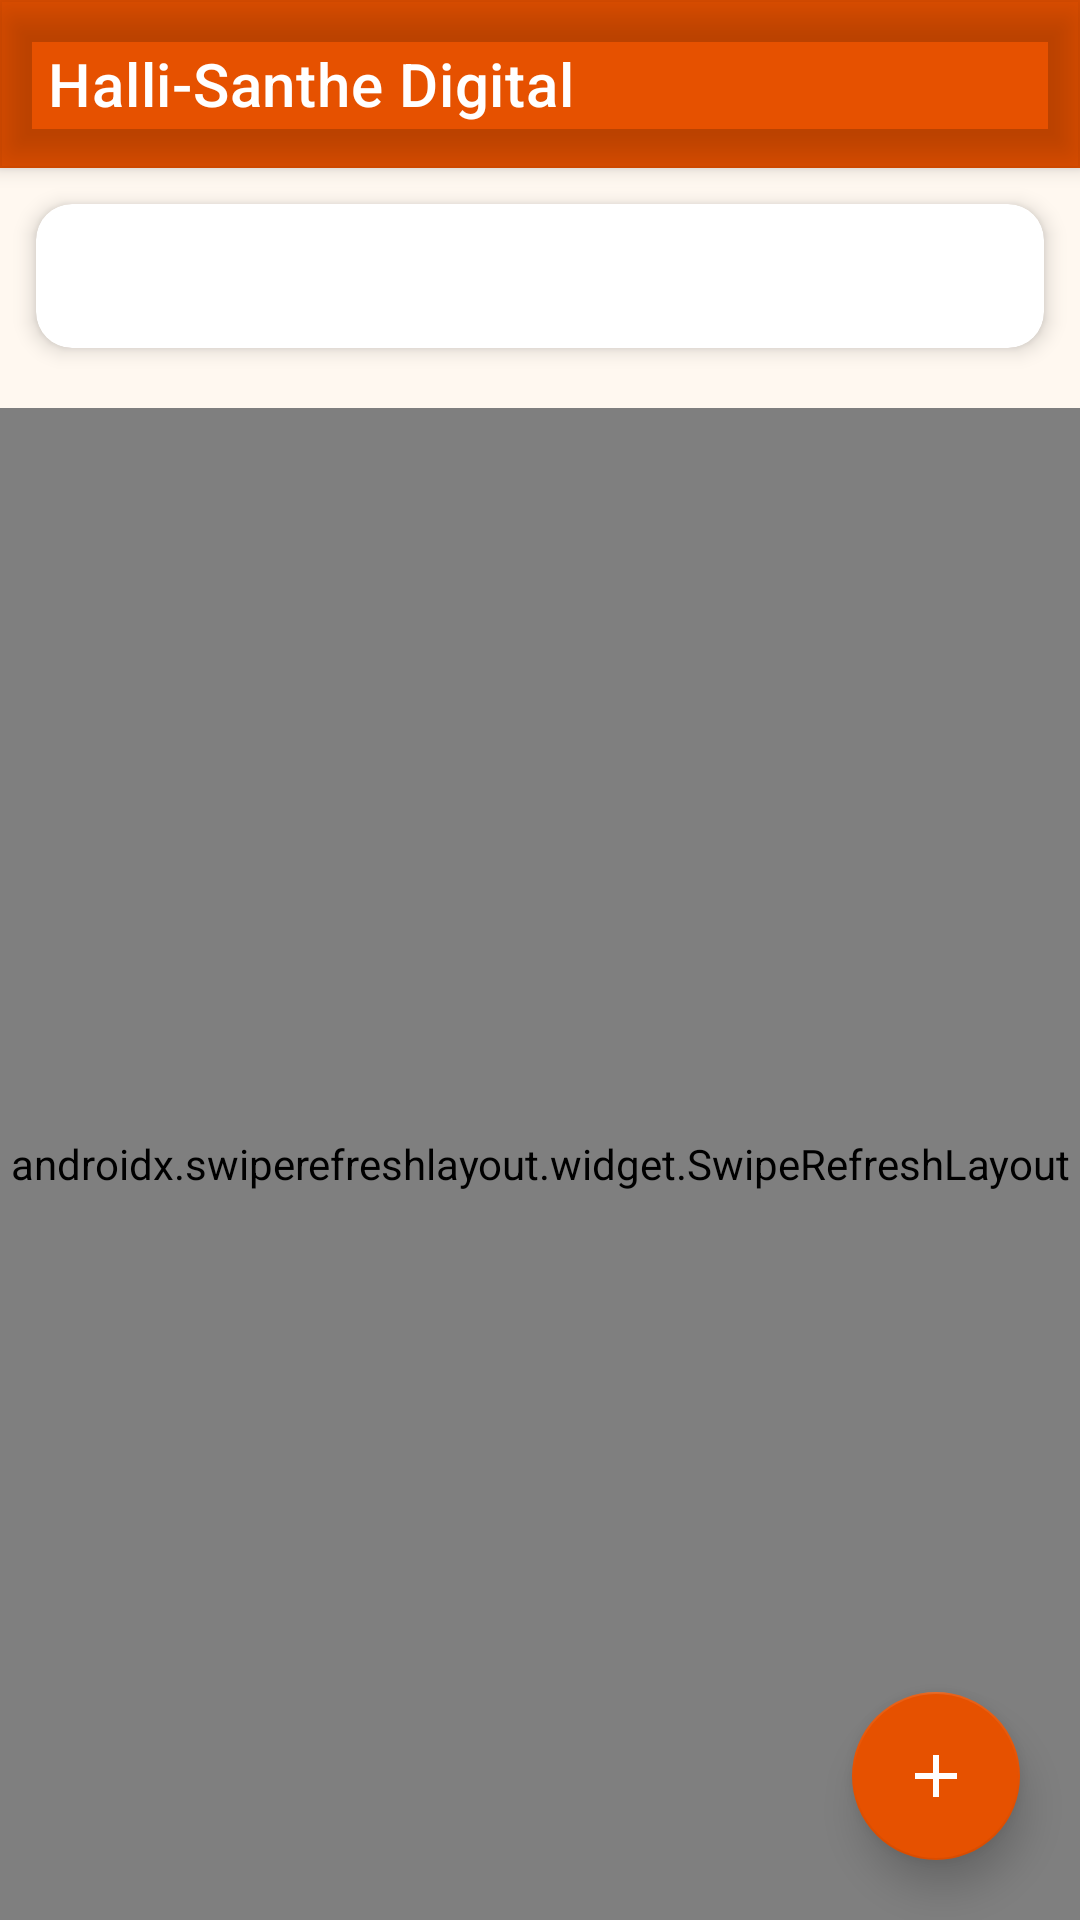

Locate icon controls on the screen. Image size 1080*1920, boxes as (x1, y1, x2, y2).
Add Product: (852, 1692, 1020, 1860)
